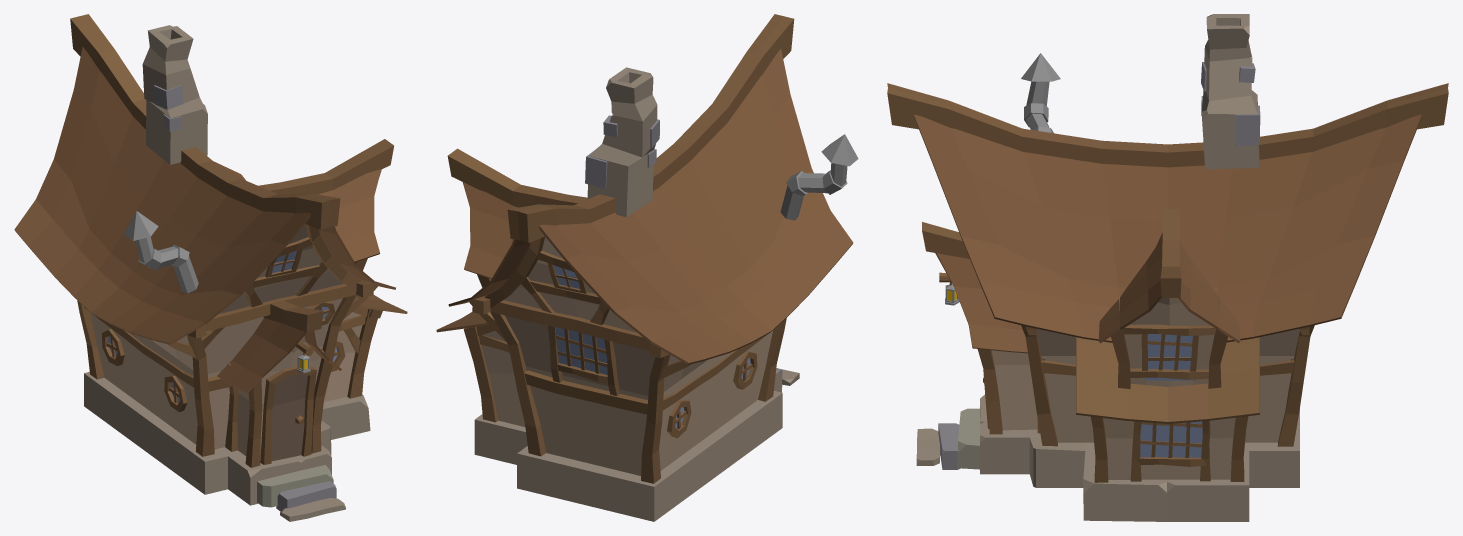
Rendered from House_Full_No_Snow.fbx.
The picture shows the model from 3 angles, left to right: view 1: azimuth 30°, elevation 25°; view 2: azimuth 150°, elevation 25°; view 3: azimuth 270°, elevation 25°; orthographic projection. The views are drawn at different scales.
Visible parts, largest first — view 1: House_Full_No_Snow; view 2: House_Full_No_Snow; view 3: House_Full_No_Snow.
Part boxes in pixels (<box>): House_Full_No_Snow: <box>14,14,407,521</box>; House_Full_No_Snow: <box>436,14,858,521</box>; House_Full_No_Snow: <box>887,14,1448,521</box>.
Size of the model in its own units: 782 by 897 by 1065.
